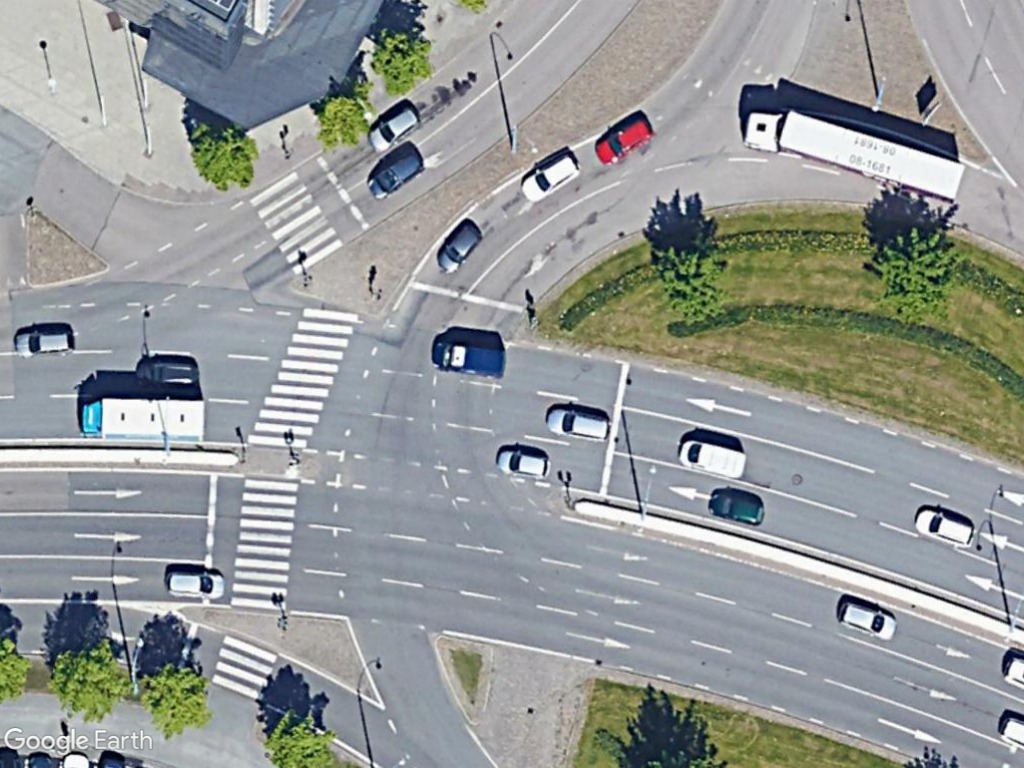car: (510, 147, 586, 208), (361, 144, 429, 202), (834, 596, 905, 649), (367, 97, 428, 156), (914, 501, 982, 553), (592, 113, 654, 168), (432, 217, 485, 279), (543, 402, 616, 445), (9, 319, 80, 362), (158, 561, 229, 603), (702, 484, 766, 530), (491, 442, 557, 483)
longvehicle: (735, 98, 982, 214)
truck: (75, 390, 212, 446)
van: (671, 434, 755, 488), (428, 333, 510, 381)
